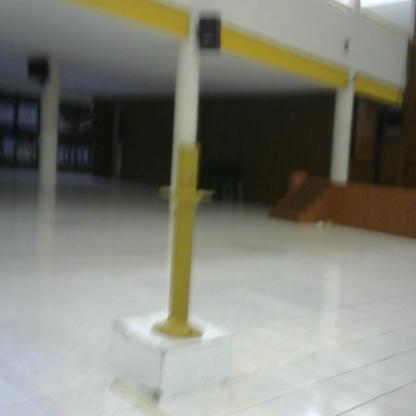pole: (150, 139, 220, 345)
